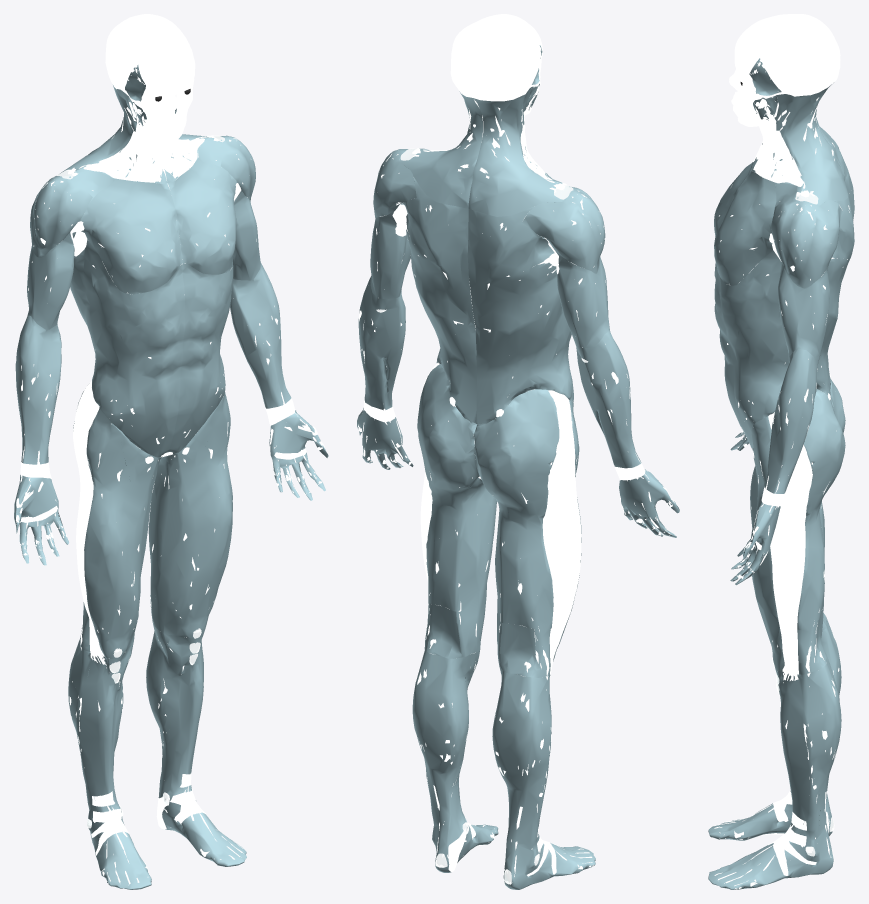
Rendered from nervoso.glb.
3 renders of one model, left to right at view 1: azimuth 30°, elevation 25°; view 2: azimuth 150°, elevation 25°; view 3: azimuth 270°, elevation 25°, orthographic. The views are drawn at different scales.
Parts seen in each view (by area): view 1: Investing abdominal fascia.r, Fascia lata.l, Fascia lata.r, Crural fascia.l, Crural fascia.r, Pectoral fascia.r, Investing abdominal fascia.l, Pectoral fascia.l, Antebrachial fascia.r, Antebrachial fascia.l, Deltoid fascia.r, Brachial fascia.r (+13 smaller); view 2: Investing abdominal fascia.r, Fascia lata.r, Fascia lata.l, Crural fascia.r, Investing abdominal fascia.l, Crural fascia.l, Superficial investing cervical fascia.r, Iliotibial tract.r, Antebrachial fascia.r, Antebrachial fascia.l, Deltoid fascia.r, Superficial investing cervical fascia.l (+11 smaller); view 3: Investing abdominal fascia.l, Crural fascia.l, Fascia lata.l, Iliotibial tract.l, Deltoid fascia.l, Pectoral fascia.l, Superficial investing cervical fascia.l, Antebrachial fascia.l, Brachial fascia.l, Epicranial aponeurosis.l, Crural fascia.r, Temporoparietalis muscle.l (+13 smaller).
Part boxes in pixels (left/top/right/bottom): Investing abdominal fascia.r: left=70, top=239, right=184, bottom=457; Fascia lata.l: left=148, top=392, right=232, bottom=638; Fascia lata.r: left=73, top=391, right=162, bottom=658; Crural fascia.l: left=146, top=622, right=246, bottom=866; Crural fascia.r: left=68, top=638, right=151, bottom=889; Pectoral fascia.r: left=78, top=178, right=182, bottom=294; Investing abdominal fascia.l: left=168, top=262, right=233, bottom=452; Pectoral fascia.l: left=167, top=158, right=237, bottom=274; Antebrachial fascia.r: left=15, top=315, right=61, bottom=464; Antebrachial fascia.l: left=230, top=262, right=291, bottom=408; Deltoid fascia.r: left=30, top=169, right=113, bottom=257; Brachial fascia.r: left=27, top=232, right=74, bottom=329; Investing abdominal fascia.r: left=467, top=207, right=573, bottom=425; Fascia lata.r: left=474, top=389, right=581, bottom=677; Fascia lata.l: left=417, top=364, right=496, bottom=657; Crural fascia.r: left=492, top=666, right=595, bottom=889; Investing abdominal fascia.l: left=401, top=177, right=476, bottom=424; Crural fascia.l: left=412, top=650, right=498, bottom=872; Superficial investing cervical fascia.r: left=468, top=86, right=570, bottom=216; Iliotibial tract.r: left=542, top=390, right=581, bottom=677; Antebrachial fascia.r: left=575, top=330, right=641, bottom=468; Antebrachial fascia.l: left=358, top=276, right=405, bottom=410; Deltoid fascia.r: left=521, top=173, right=605, bottom=274; Superficial investing cervical fascia.l: left=399, top=91, right=482, bottom=208; Investing abdominal fascia.l: left=714, top=195, right=854, bottom=448; Crural fascia.l: left=708, top=656, right=841, bottom=889; Fascia lata.l: left=751, top=389, right=845, bottom=674; Iliotibial tract.l: left=768, top=412, right=812, bottom=682; Deltoid fascia.l: left=771, top=183, right=843, bottom=288; Pectoral fascia.l: left=714, top=171, right=776, bottom=285; Superficial investing cervical fascia.l: left=752, top=84, right=848, bottom=205; Antebrachial fascia.l: left=764, top=348, right=820, bottom=493; Brachial fascia.l: left=777, top=262, right=829, bottom=357; Epicranial aponeurosis.l: left=738, top=18, right=840, bottom=77; Crural fascia.r: left=708, top=618, right=841, bottom=840; Temporoparietalis muscle.l: left=759, top=46, right=821, bottom=95.
Size of the model in its own units: 0.6707 by 1.7 by 0.2686.
